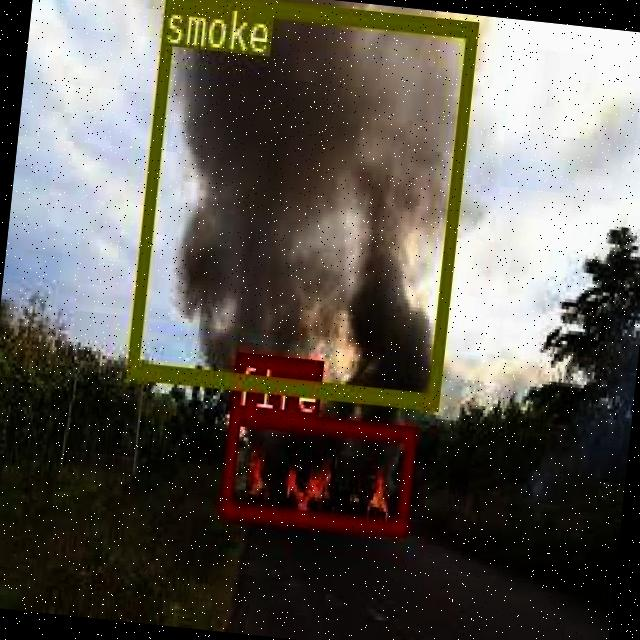fire: (218, 406, 414, 532)
smoke: (124, 0, 476, 406)
